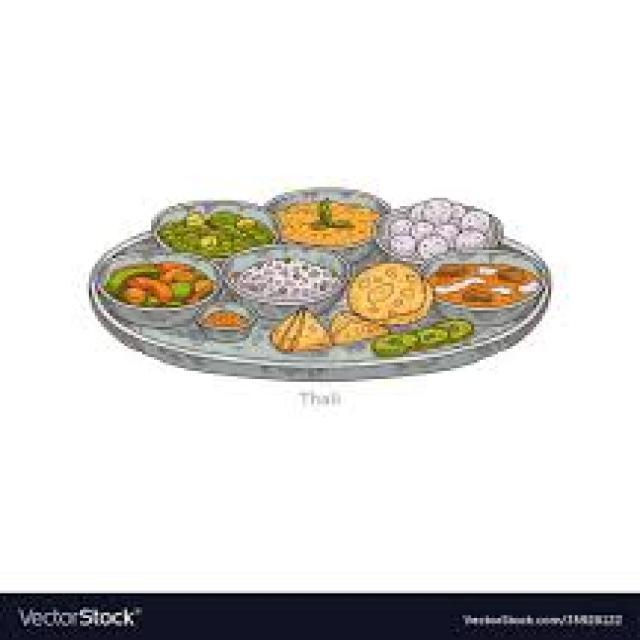dal: (425, 254, 543, 314), (273, 190, 378, 250)
veg-fry: (106, 252, 218, 319)
